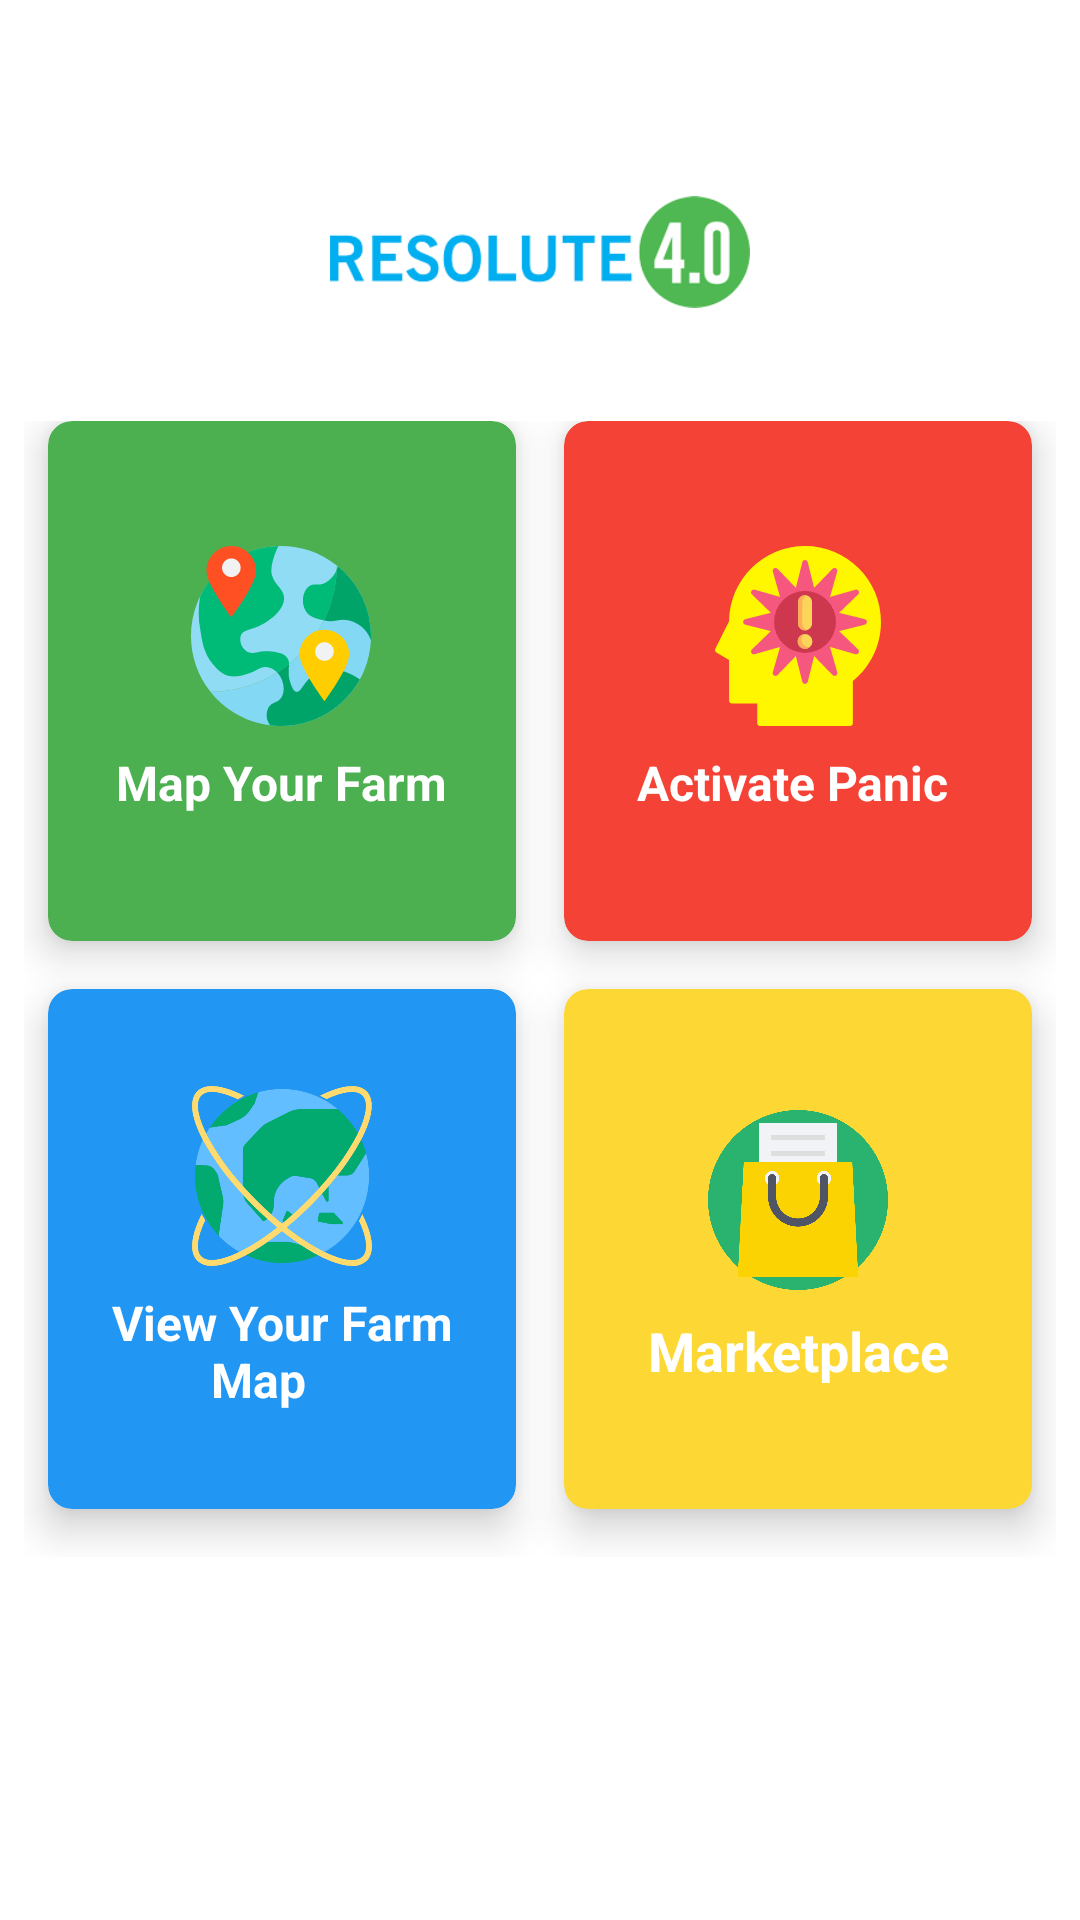

Where icons sit on this 1080x1920 app screen, as (x1, y1, x2, y2):
bag: (708, 1110, 888, 1290)
location: (191, 546, 371, 726)
world: (192, 1086, 372, 1266)
